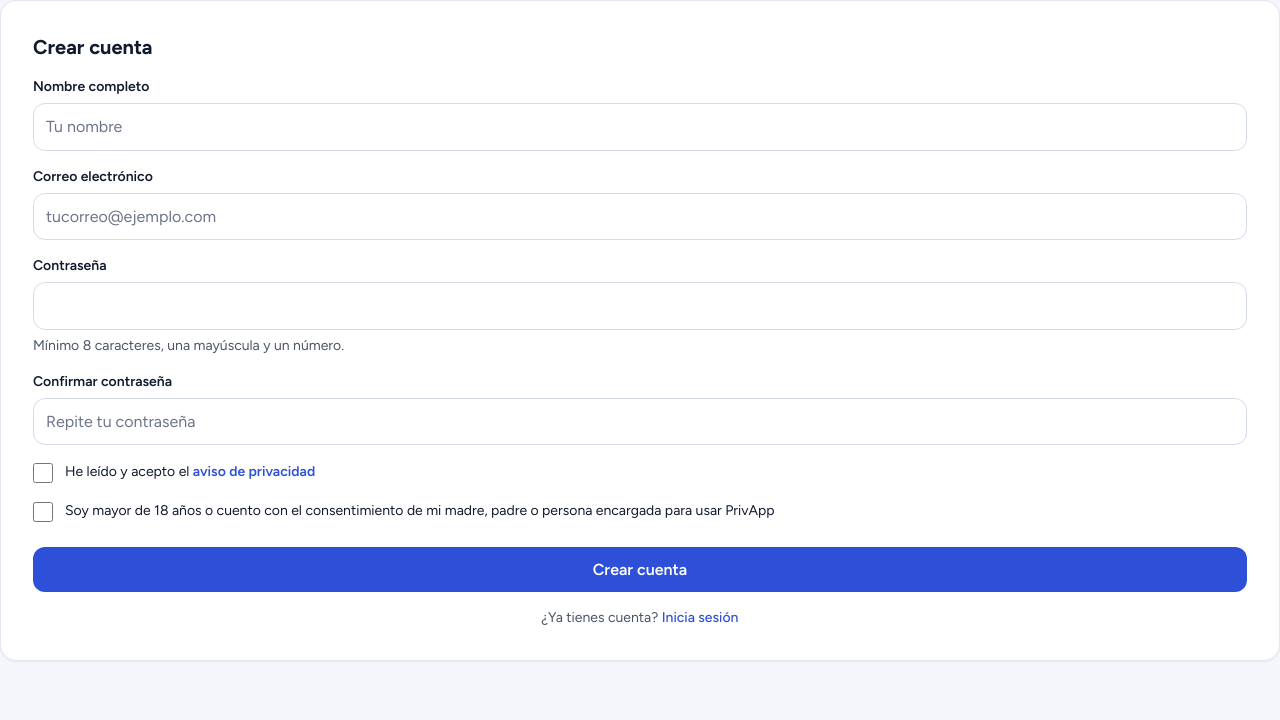
Scenario: RegisterForm › exige que las contraseñas coincidan
Type "Ana López" into the field labelled "Nombre completo".
click(640, 127); type("Ana López")  # box [33, 103, 1247, 151]
Type "ana@privapp.test" into the field labelled "Correo electrónico".
click(640, 216); type("ana@privapp.test")  # box [33, 193, 1247, 240]
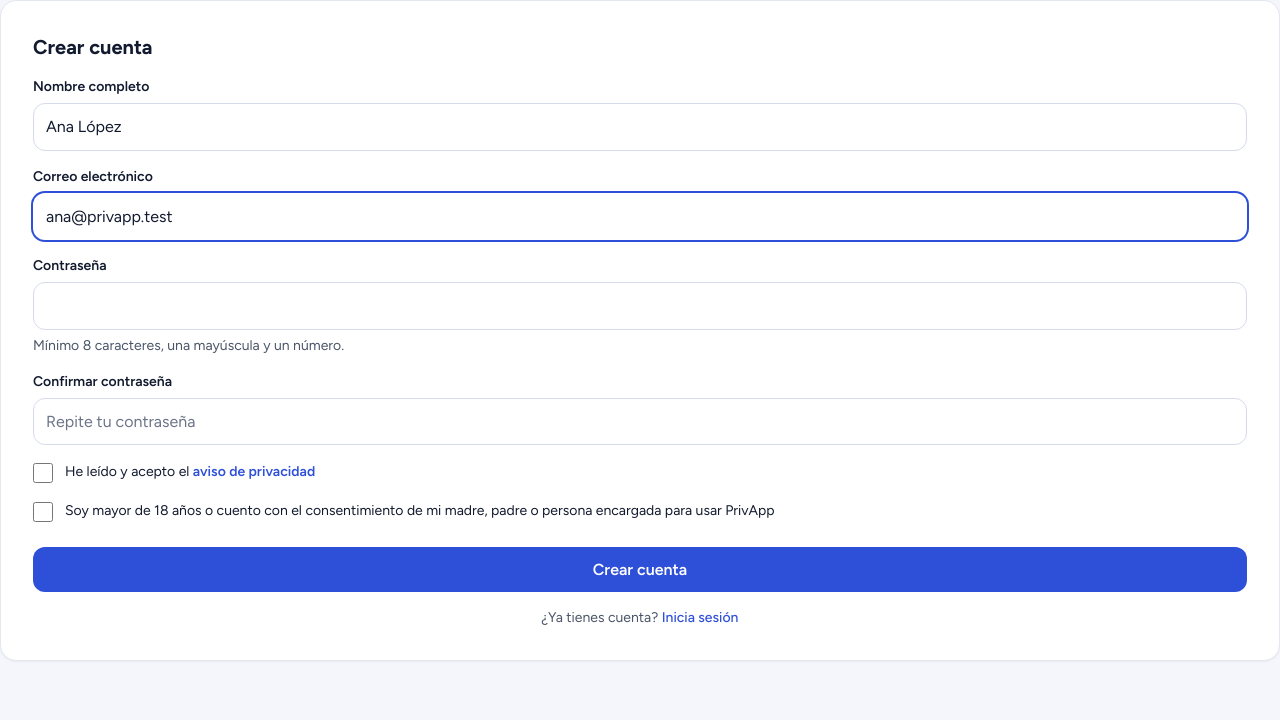
Type "Segura123" into the password field labelled "Contraseña".
click(640, 306); type("Segura123")  # box [33, 282, 1247, 330]
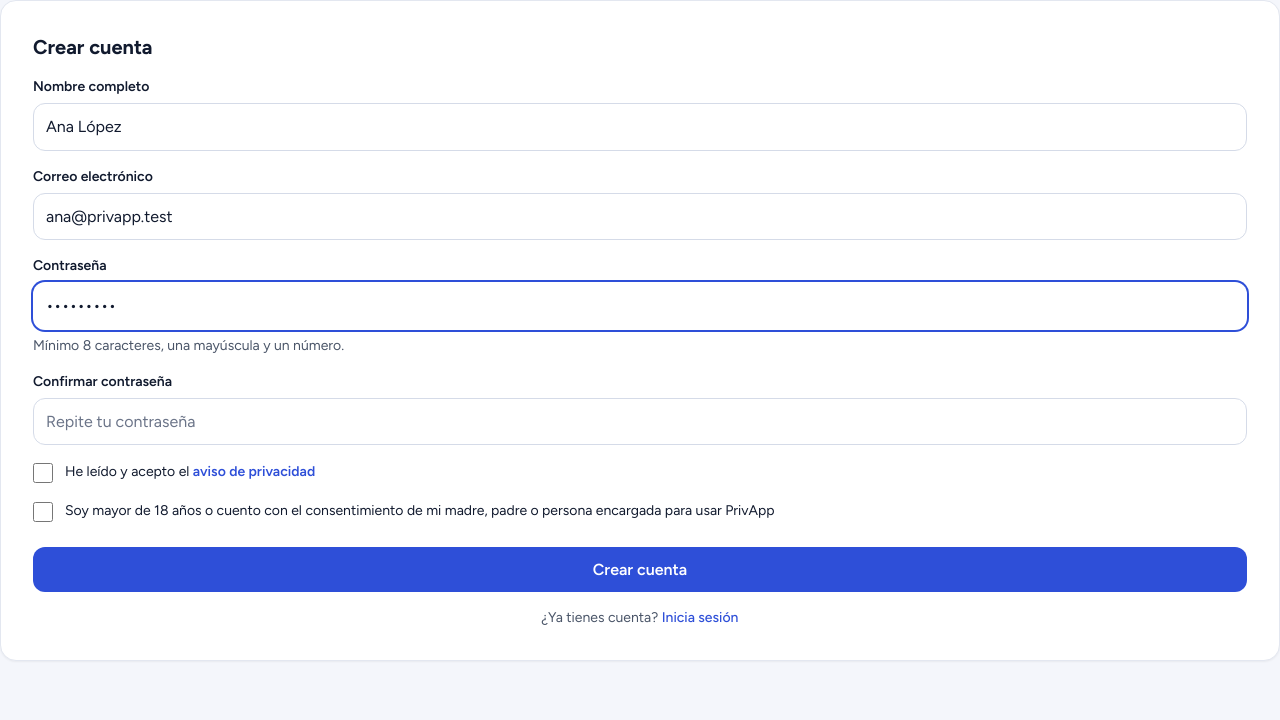
Type "Distinta123" into the password field labelled "Confirmar contraseña".
click(640, 422); type("Distinta123")  # box [33, 398, 1247, 445]
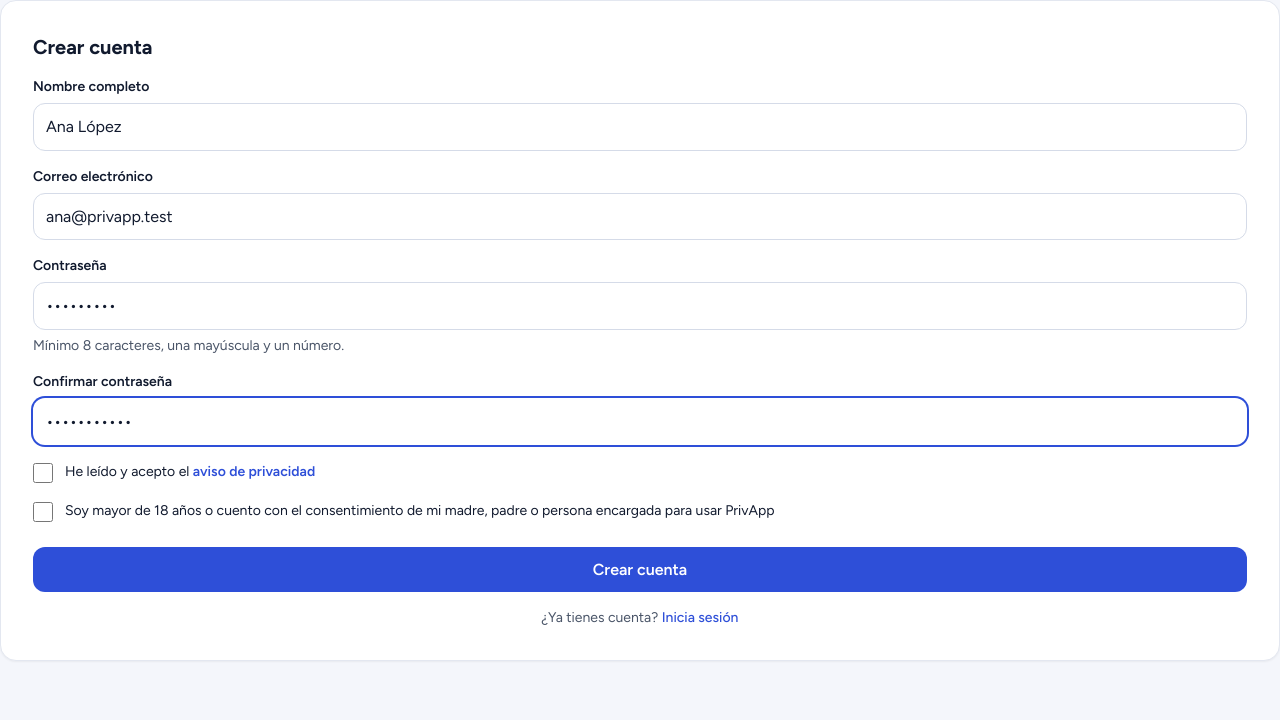
Click the checkbox labelled "He leído y acepto el aviso de privacidad".
click(43, 473)  # box [33, 463, 53, 483]
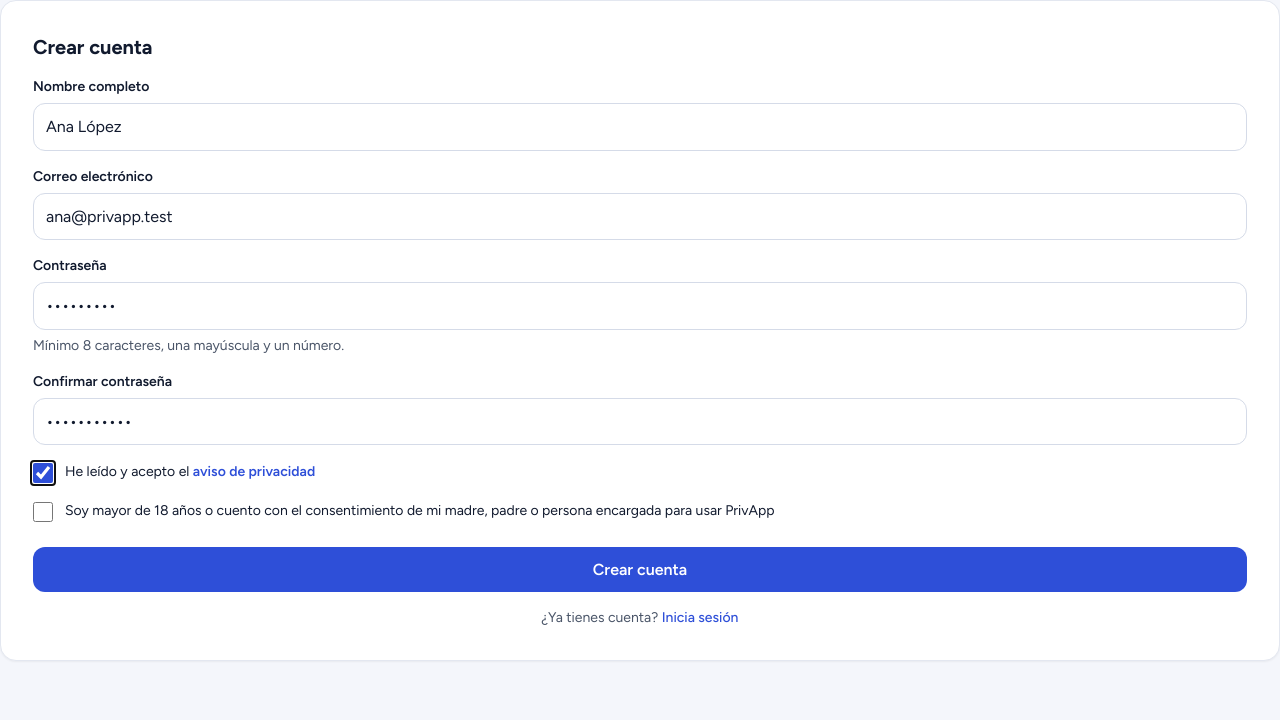
Click the checkbox labelled "mayor de 18 años".
click(43, 512)  # box [33, 502, 53, 522]
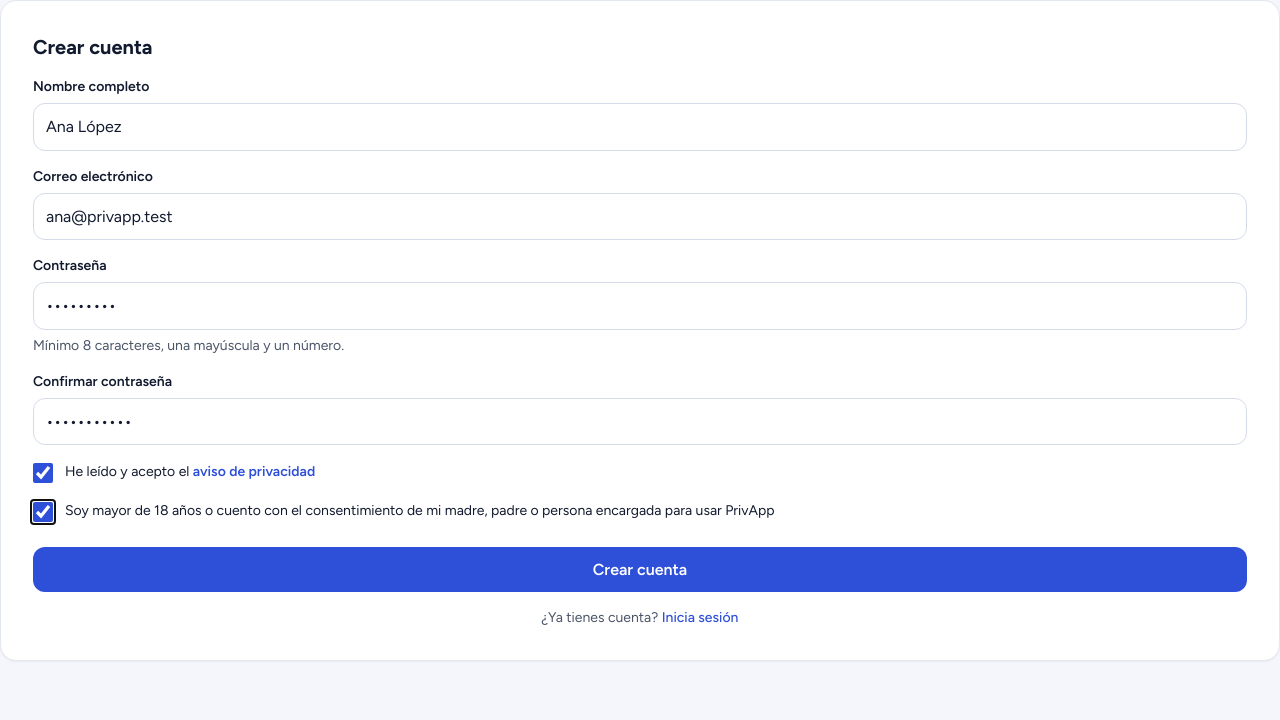
Click the button "Crear cuenta".
click(640, 570)  # box [33, 547, 1247, 592]
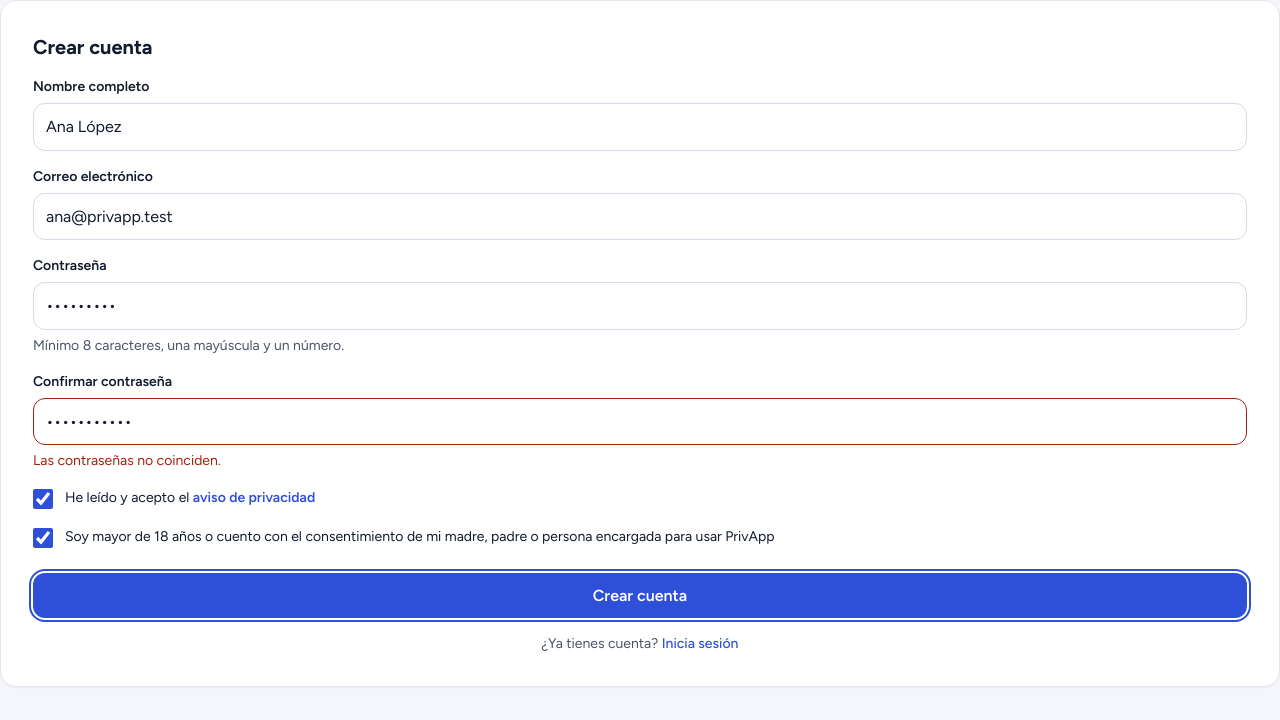
Now the text "Las contraseñas no coinciden." is shown, box [33, 452, 221, 469]
